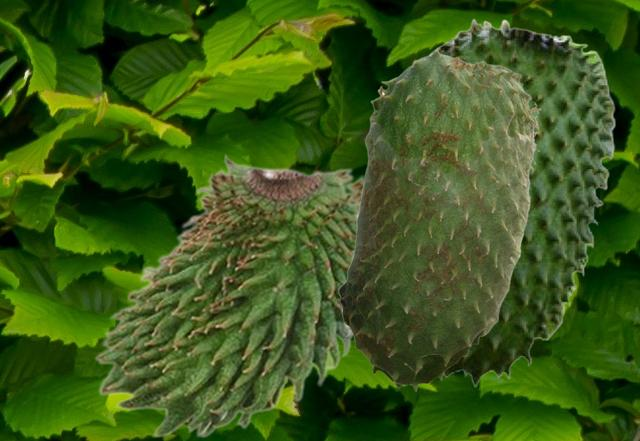guyabano: (93, 153, 363, 437), (336, 49, 540, 390), (429, 18, 615, 386)
